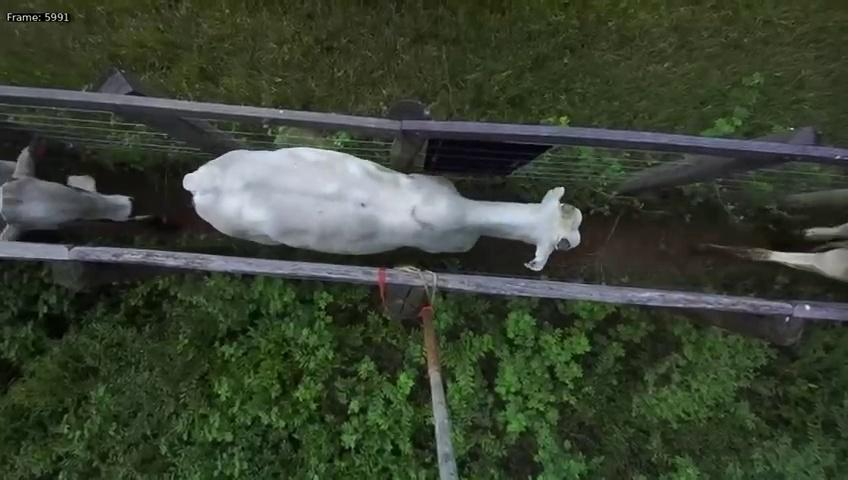cattle: (176, 128, 583, 270)
